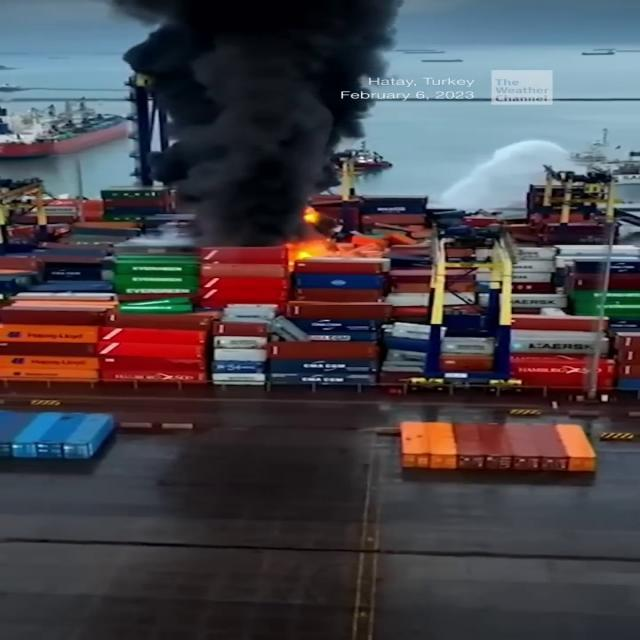Fire: (282, 210, 384, 262)
Smoke: (92, 0, 420, 230)
